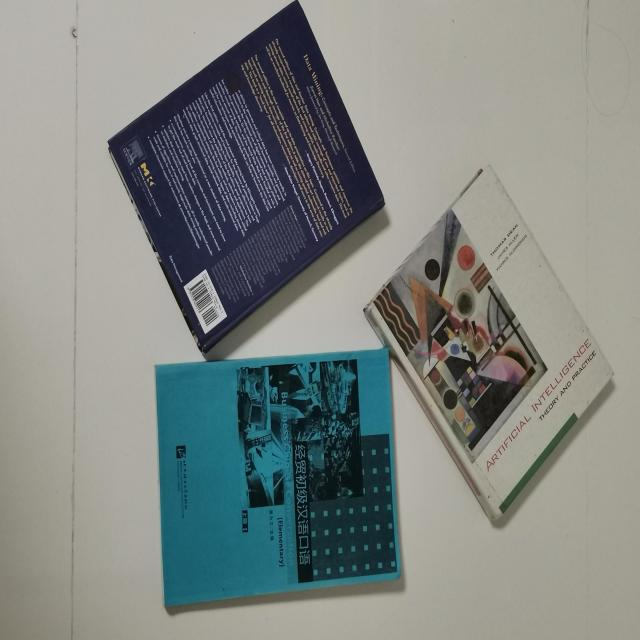Book: (91, 0, 388, 371), (358, 165, 620, 540), (137, 354, 419, 615)
